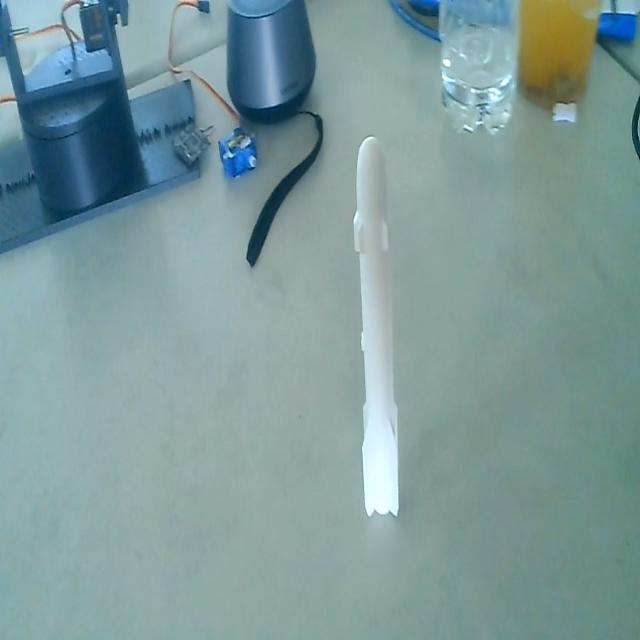Rocket: (350, 128, 402, 525)
